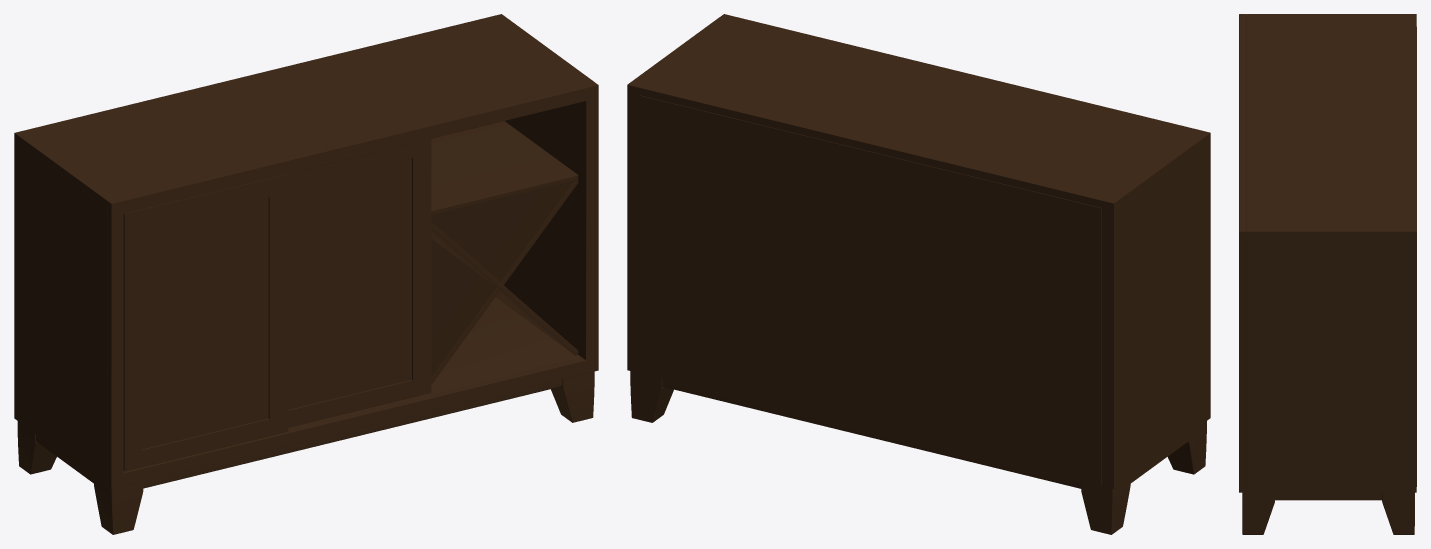
File: B075YQXQ5C.glb
3 views of the same model, side by side, from view 1: azimuth 30°, elevation 25°; view 2: azimuth 150°, elevation 25°; view 3: azimuth 270°, elevation 25° (orthographic). The views are drawn at different scales.
Parts seen in each view (by area): view 1: "$AJJGEMJAGCBAAAAAICBAAAAAAAAAPBILHLCC"; view 2: "$AJJGEMJAGCBAAAAAICBAAAAAAAAAPBILHLCC"; view 3: "$AJJGEMJAGCBAAAAAICBAAAAAAAAAPBILHLCC".
Part boxes in pixels (bbox=[...]): "$AJJGEMJAGCBAAAAAICBAAAAAAAAAPBILHLCC": bbox=[14, 14, 598, 534]; "$AJJGEMJAGCBAAAAAICBAAAAAAAAAPBILHLCC": bbox=[627, 14, 1210, 534]; "$AJJGEMJAGCBAAAAAICBAAAAAAAAAPBILHLCC": bbox=[1239, 14, 1416, 534].
Size of the model in its own units: 1.4 by 0.9137 by 0.4821.
Materials: 1 (1 with a texture image).
